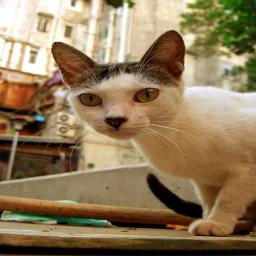catnose: (103, 116, 129, 128)
